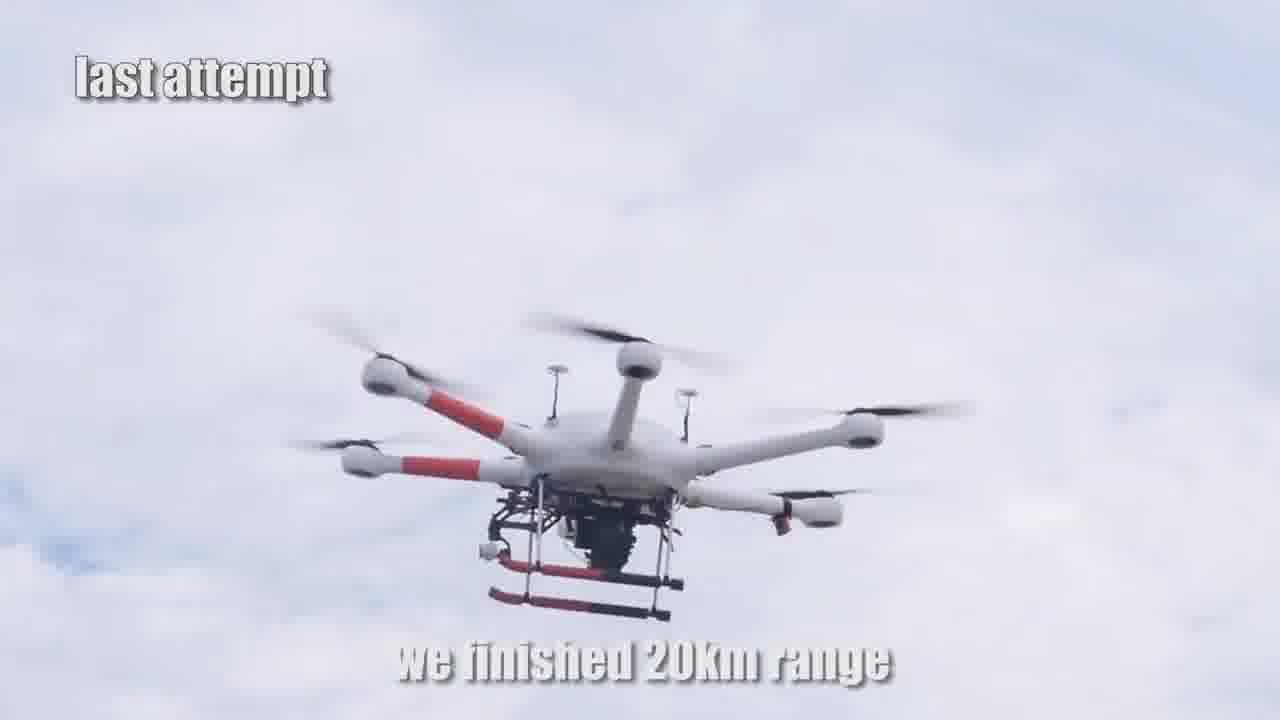drone: (254, 280, 951, 622)
